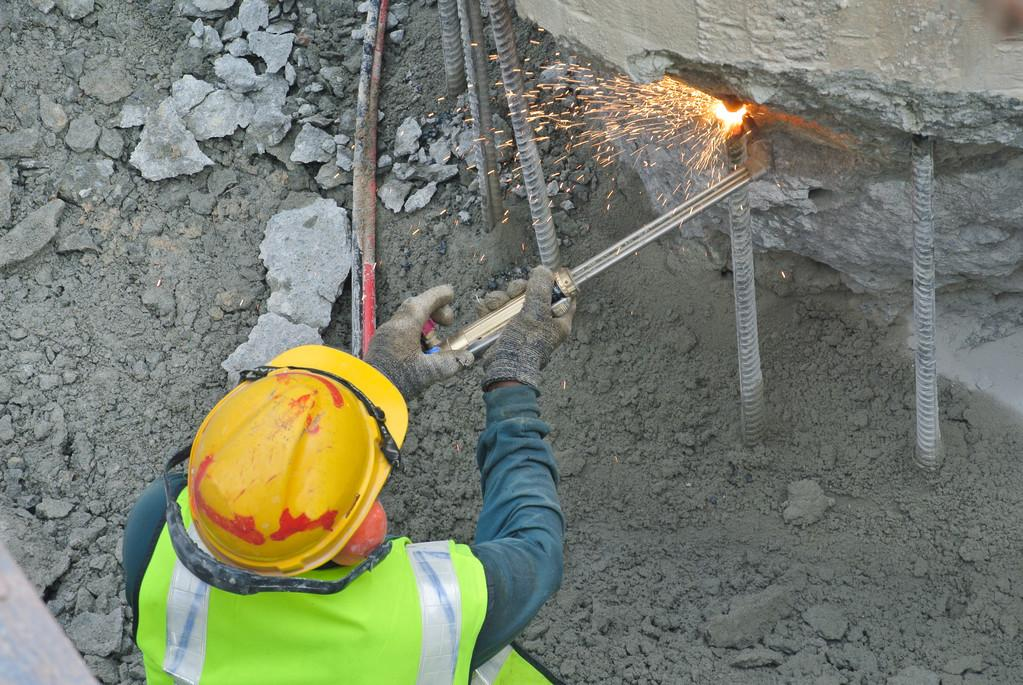helmet: (191, 343, 403, 571)
